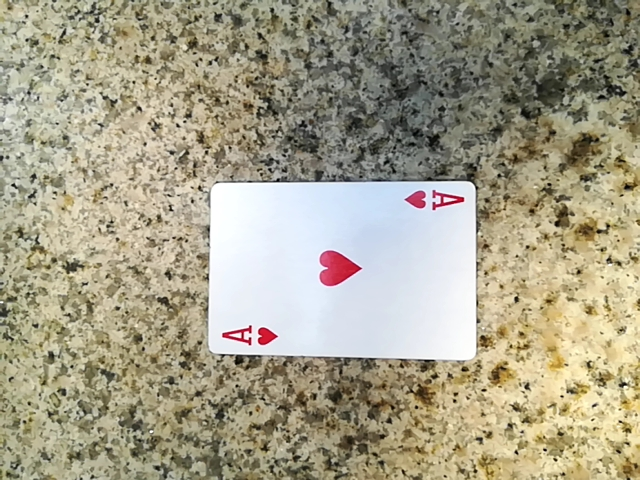hx a: (192, 183, 472, 364)
